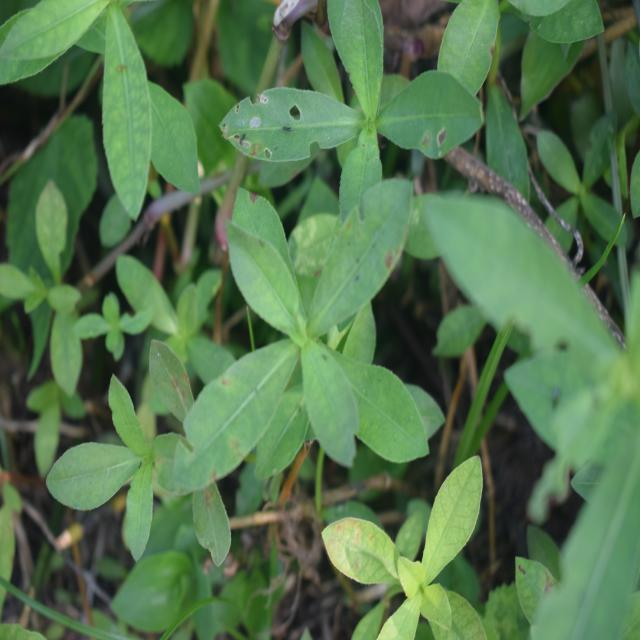Alligatorweed: (171, 171, 422, 505)
